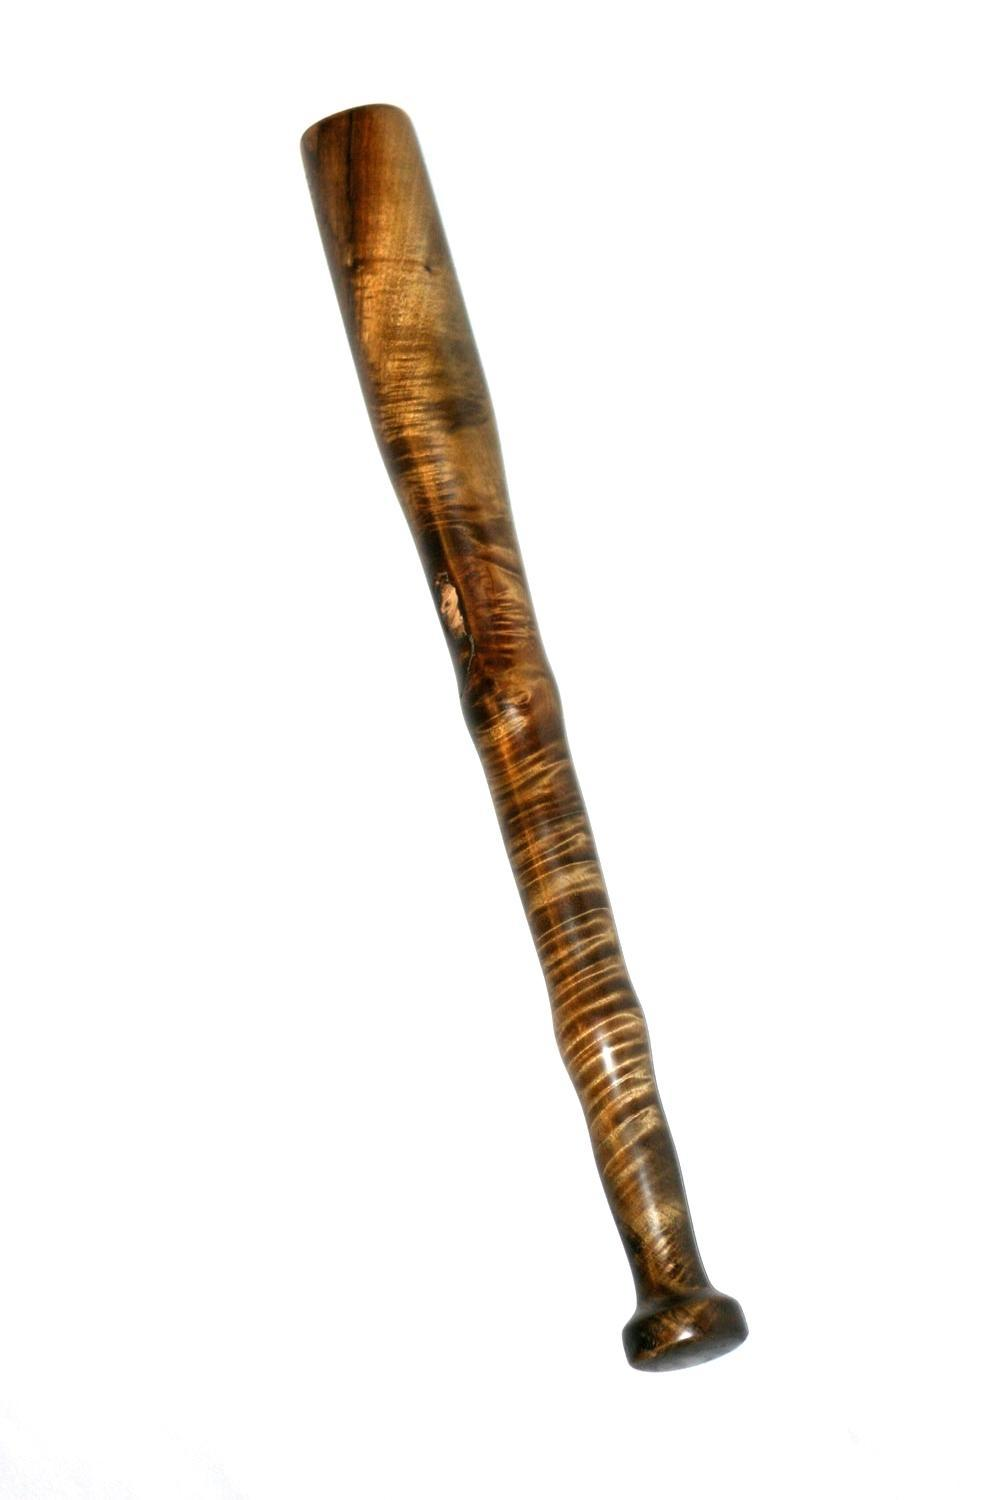Baseball-Bat: (304, 67, 794, 1364)
